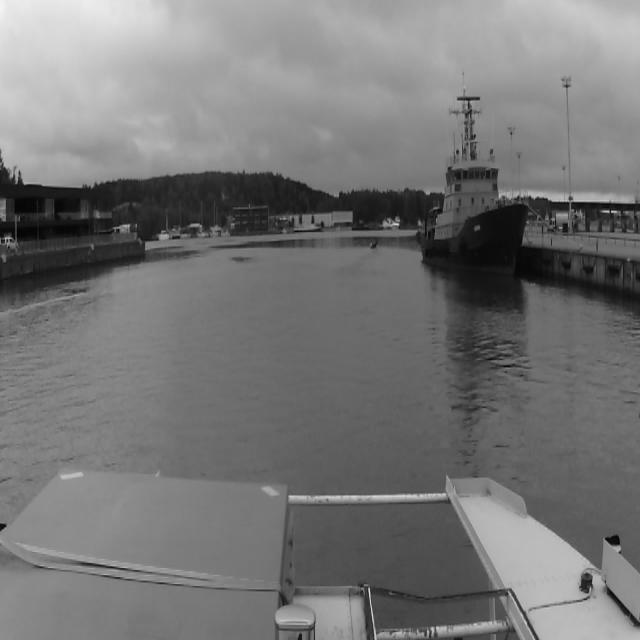ship: (414, 77, 528, 283), (292, 221, 322, 232), (369, 235, 377, 252)
